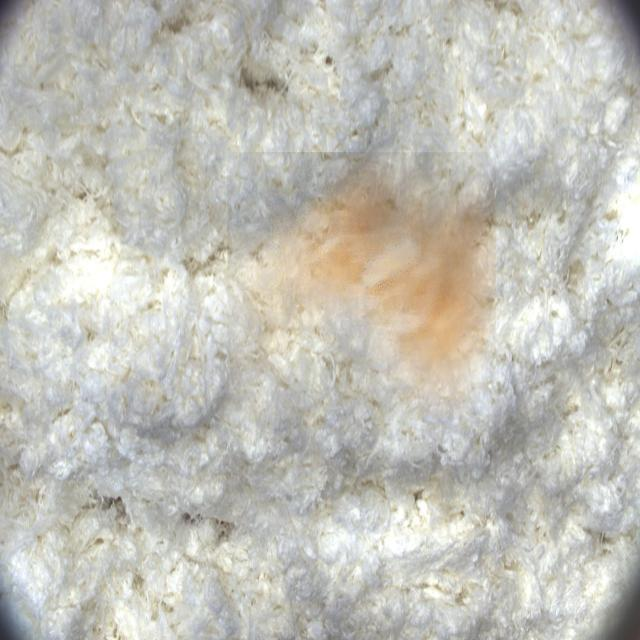dust: (227, 152, 496, 419)
